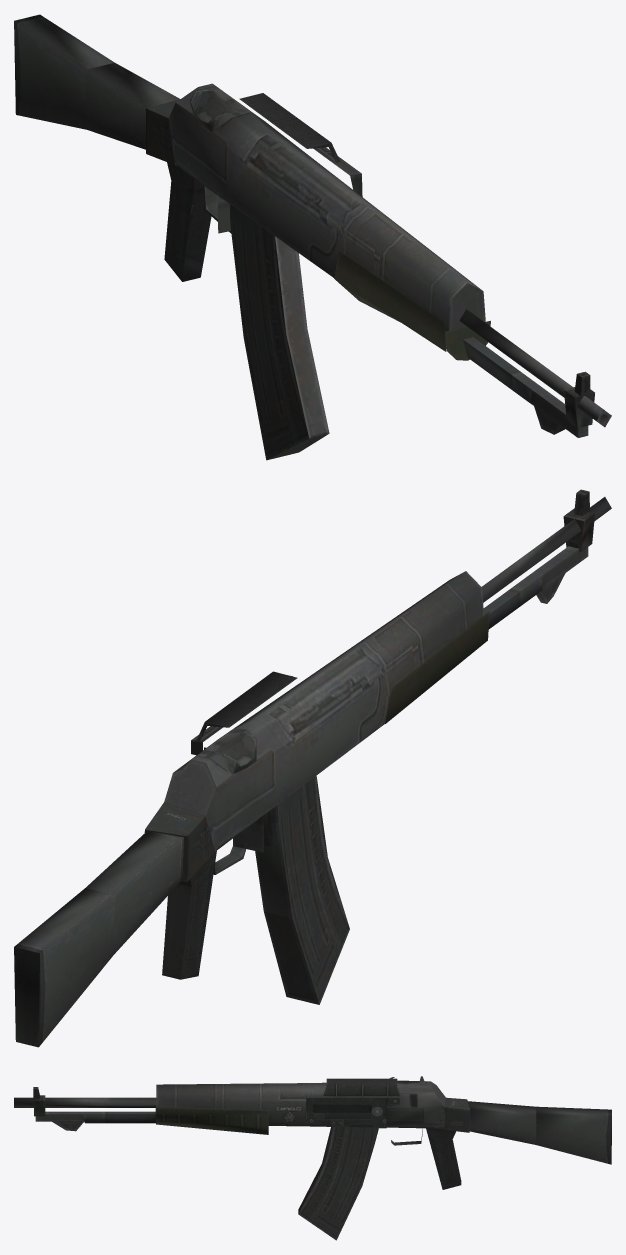
File: Assault_Rifle_pw_1045_AN94_dj_lod2_Body_LOD_(000233).glb
The picture shows the model from 3 angles, top to bottom: view 1: azimuth 30°, elevation 25°; view 2: azimuth 150°, elevation 25°; view 3: azimuth 270°, elevation 25°; orthographic projection. The views are drawn at different scales.
Parts seen in each view (by area): view 1: pw_1045_AN94_dj_lod2; view 2: pw_1045_AN94_dj_lod2; view 3: pw_1045_AN94_dj_lod2.
Boxes of the visible parts, x1,y1,x2,y2 form: pw_1045_AN94_dj_lod2: (14,14,611,460); pw_1045_AN94_dj_lod2: (14,489,611,1047); pw_1045_AN94_dj_lod2: (14,1076,611,1240).
Size of the model in its own units: 0.0778 by 0.3459 by 1.16.
1 material, 1 textured.
